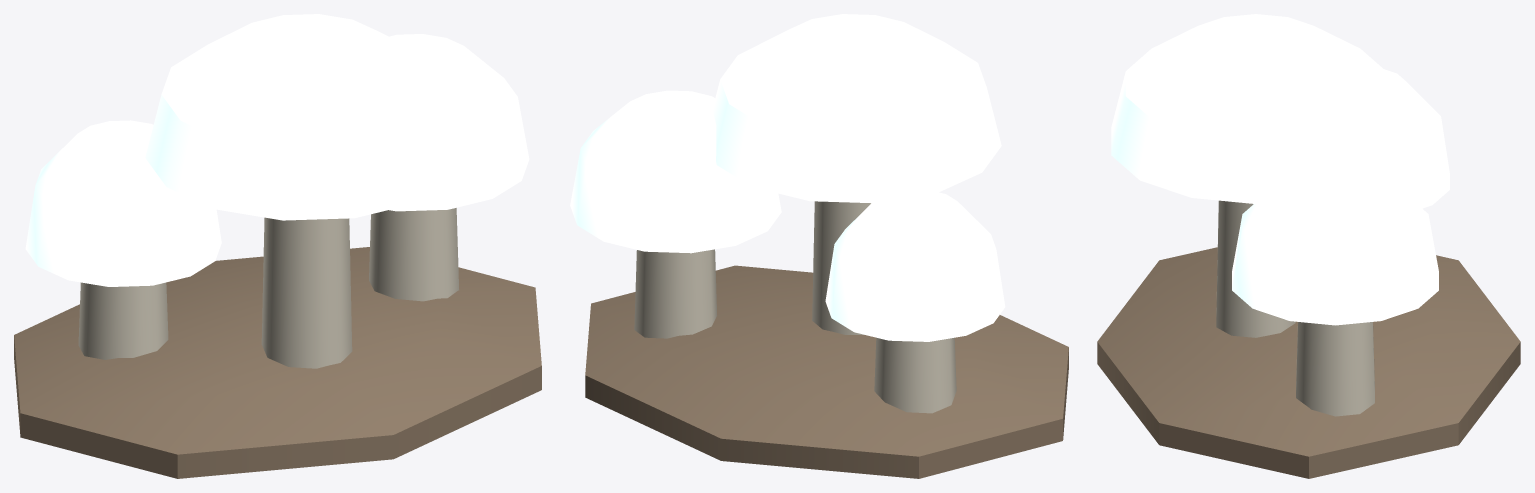
File: brightcap.glb
3 views of the same model, side by side, from view 1: azimuth 30°, elevation 25°; view 2: azimuth 150°, elevation 25°; view 3: azimuth 270°, elevation 25° (orthographic). The views are drawn at different scales.
Visible parts, largest first — view 1: brightcap; view 2: brightcap; view 3: brightcap.
Boxes of the visible parts, box(x1,y1,x2,y2) form: brightcap: box(14, 14, 541, 478); brightcap: box(570, 14, 1068, 478); brightcap: box(1097, 14, 1520, 478).
Bounding box in the file's own units: 0.1027 × 0.0735 × 0.0799.
